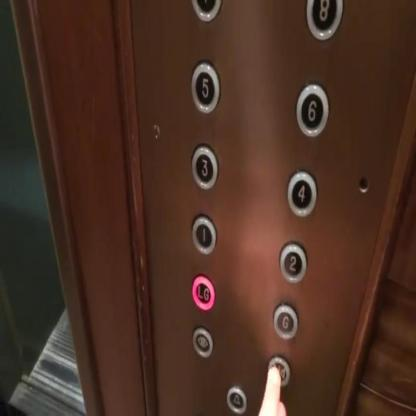1: (190, 212, 218, 256)
2: (279, 240, 307, 283)
3: (191, 143, 218, 191)
4: (286, 167, 317, 217)
5: (189, 59, 220, 113)
6: (296, 82, 328, 136)
8: (304, 0, 342, 39)
G: (273, 302, 298, 340)
LG: (190, 273, 214, 309)
alarm: (226, 386, 247, 413)
open: (192, 326, 213, 359)
